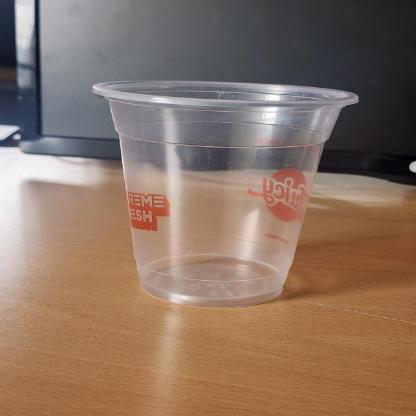Plastic Cup: (92, 78, 360, 309)
